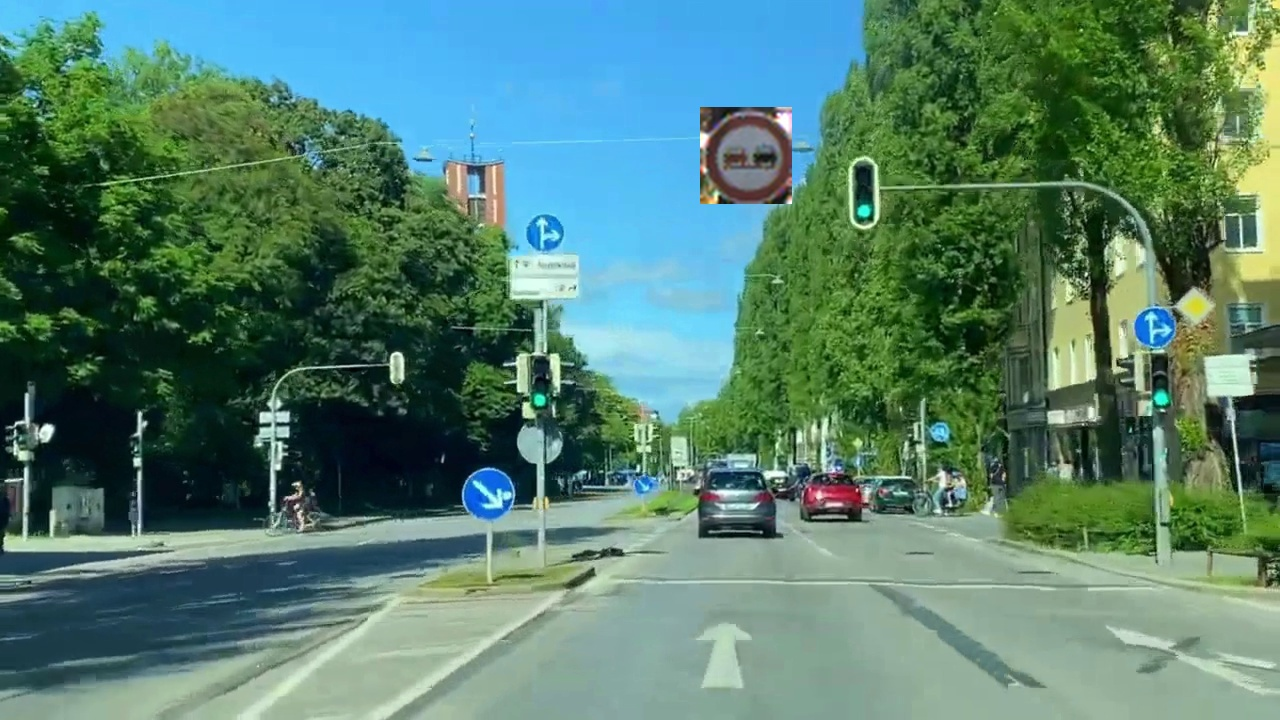No passing: (700, 107, 792, 204)
